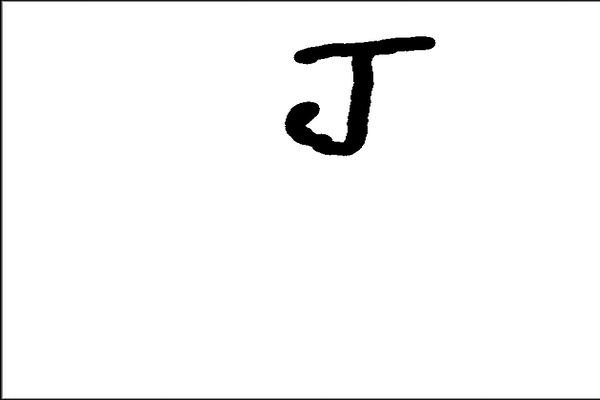J: (280, 31, 441, 158)
